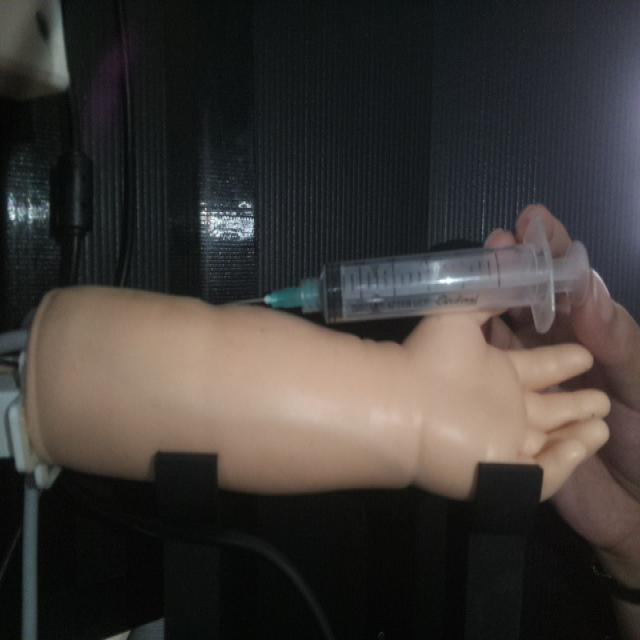Outside: (240, 224, 592, 333)
